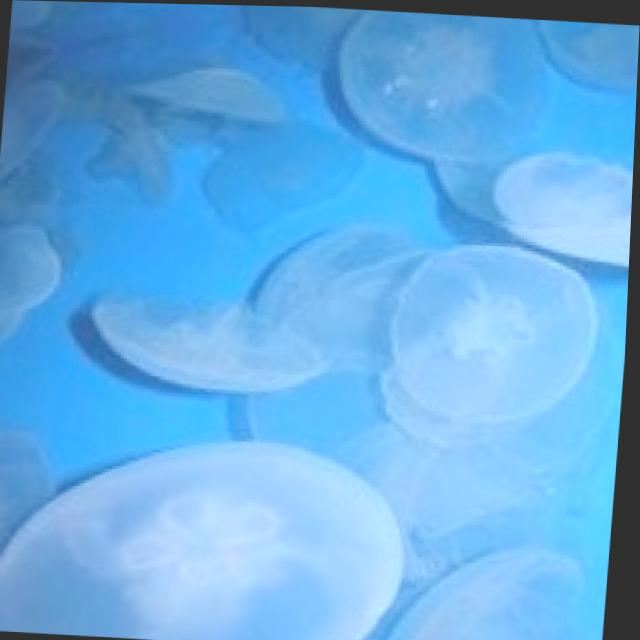Moon-jellyfish: (11, 409, 429, 640), (375, 236, 605, 437), (67, 281, 347, 405), (330, 6, 549, 163), (497, 120, 636, 267)
